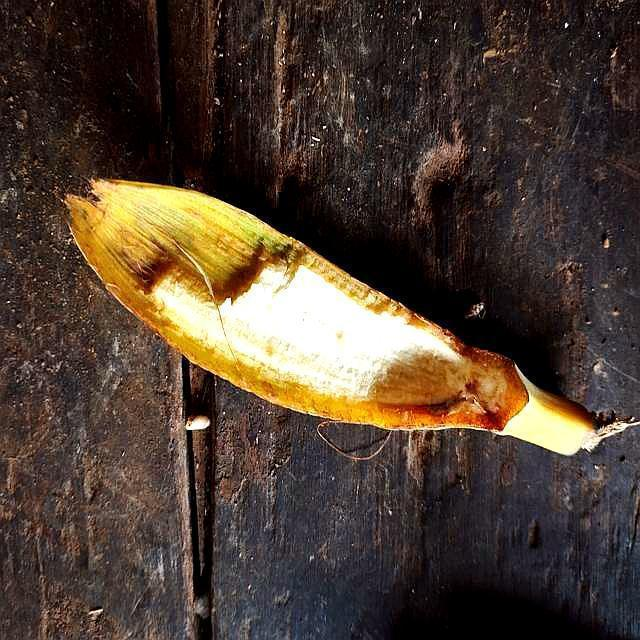Biodegradable: (2, 136, 640, 540)
